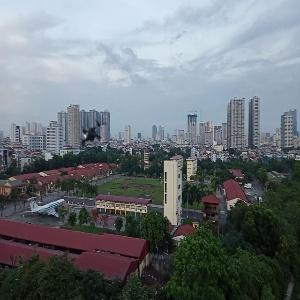drone: (71, 116, 117, 162)
